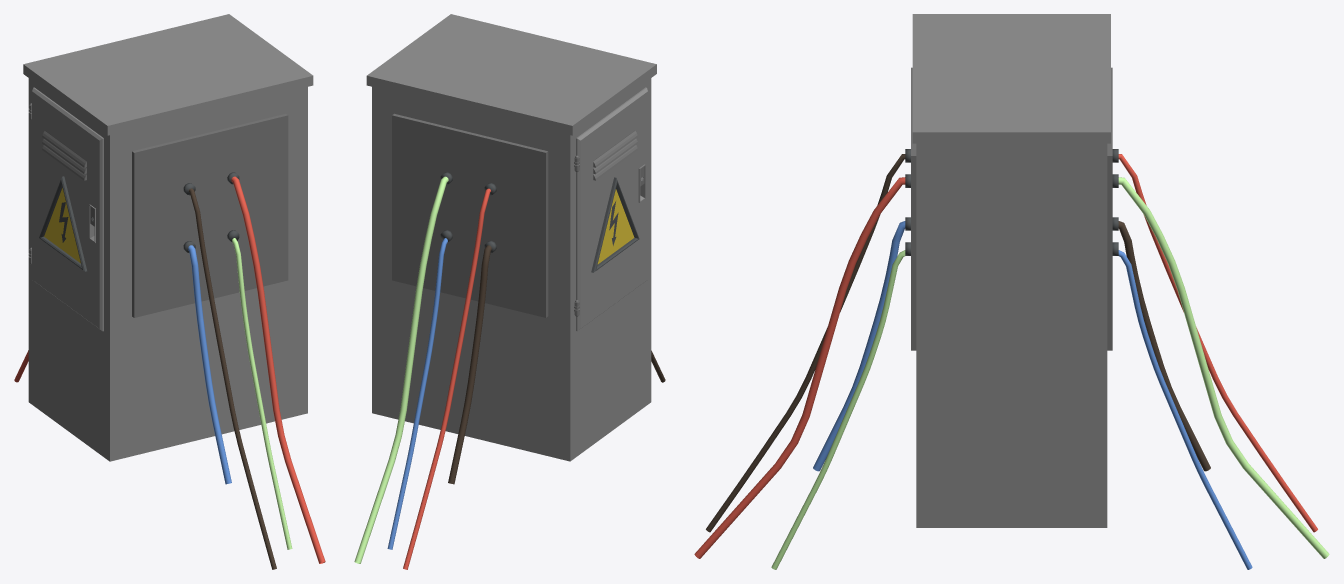
File: ElectricalBoxForJump.fbx
3 views of the same model, side by side, from view 1: azimuth 30°, elevation 25°; view 2: azimuth 150°, elevation 25°; view 3: azimuth 270°, elevation 25° (orthographic). The views are drawn at different scales.
Parts seen in each view (by area): view 1: Cylinder.065; view 2: Cylinder.065; view 3: Cylinder.065.
Boxes of the visible parts, <box> form: Cylinder.065: <box>14,14,325,569</box>; Cylinder.065: <box>354,14,665,569</box>; Cylinder.065: <box>694,14,1329,569</box>.
Size of the model in its own units: 290 by 545 by 647.
